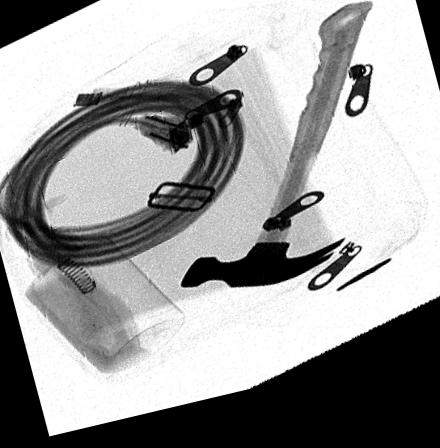Hammer: (179, 18, 374, 301)
